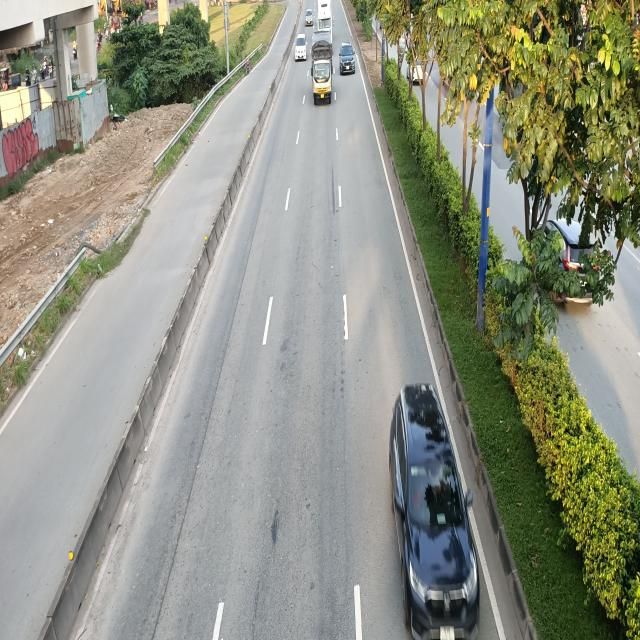car: (389, 378, 482, 636), (340, 45, 356, 76)
truck: (311, 32, 334, 106)
